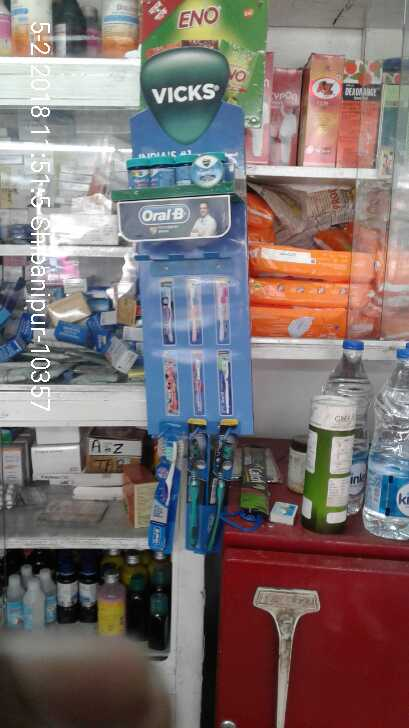pharmacy: (152, 420, 183, 553), (211, 419, 233, 559), (187, 416, 206, 553), (125, 157, 151, 192), (149, 156, 174, 189), (173, 154, 197, 187)
